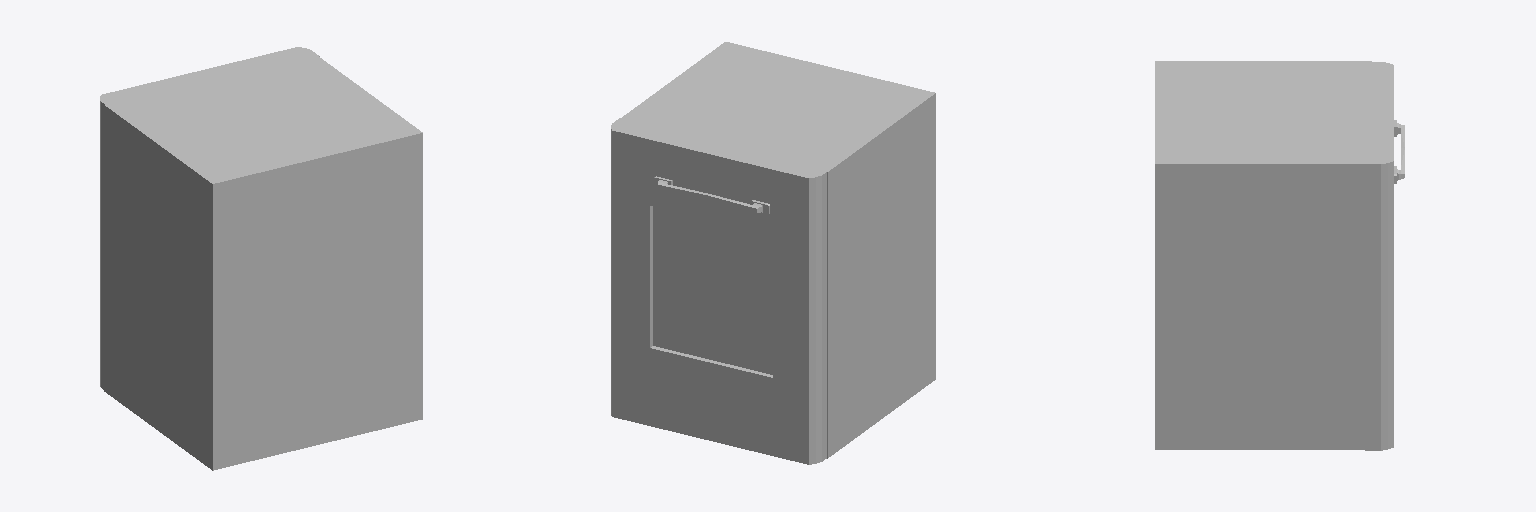
File: Lavadeira_de_Pratos.obj
3 renders of one model, left to right at view 1: azimuth 30°, elevation 25°; view 2: azimuth 150°, elevation 25°; view 3: azimuth 270°, elevation 25°, orthographic.
Visible parts, largest first — view 1: group91; view 2: group91; view 3: group91.
Part boxes in pixels (bbox=[...]): group91: bbox=[100, 47, 422, 470]; group91: bbox=[611, 42, 935, 464]; group91: bbox=[1155, 61, 1404, 450].
Bounding box in the file's own units: 1.27 × 1.65 × 1.3.